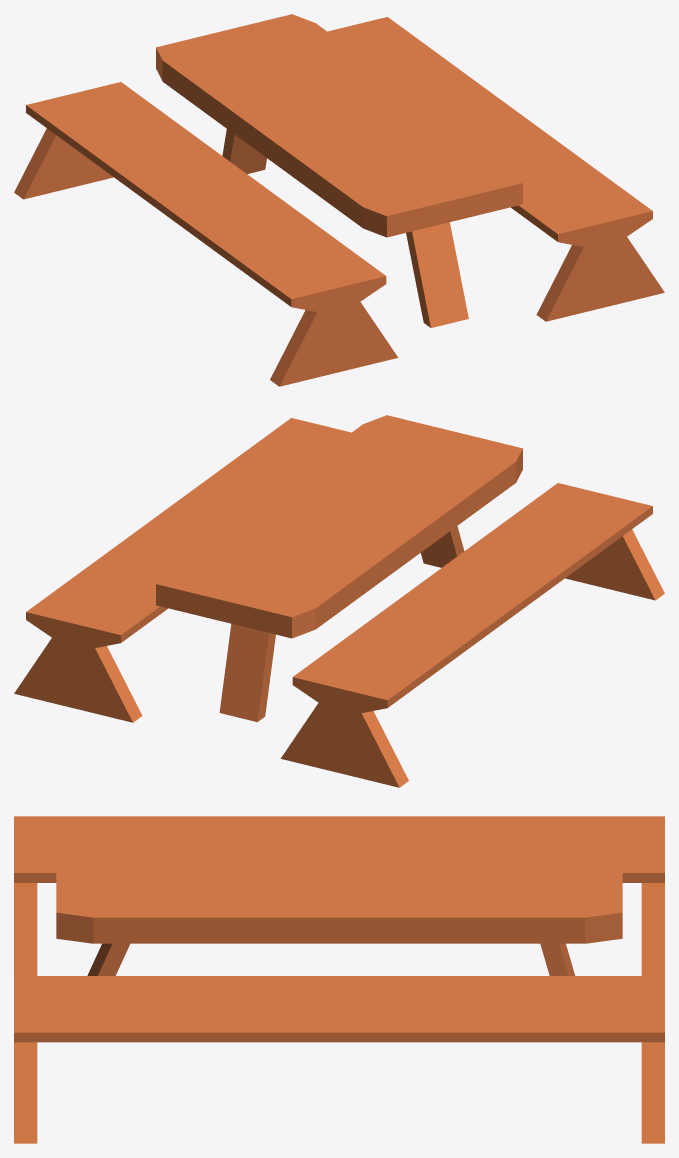
Rendered from Picnic.fbx.
3 renders of one model, top to bottom at view 1: azimuth 30°, elevation 25°; view 2: azimuth 150°, elevation 25°; view 3: azimuth 270°, elevation 25°, orthographic. The views are drawn at different scales.
Visible parts, largest first — view 1: Plane; view 2: Plane; view 3: Plane.
Part boxes in pixels (x1=…): Plane: x1=14, y1=14, x2=664, y2=386; Plane: x1=14, y1=415, x2=664, y2=787; Plane: x1=14, y1=816, x2=664, y2=1143.
Size of the model in its own units: 523 by 165 by 623.
